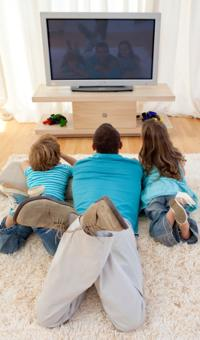person: (16, 124, 145, 330)
